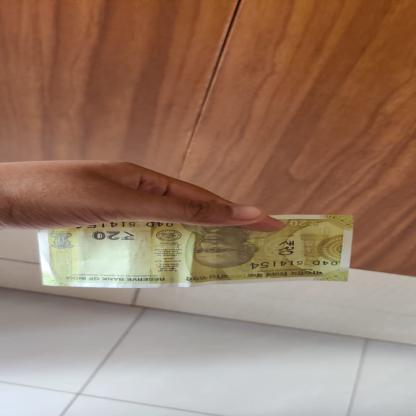New20Front: (35, 213, 359, 288)
